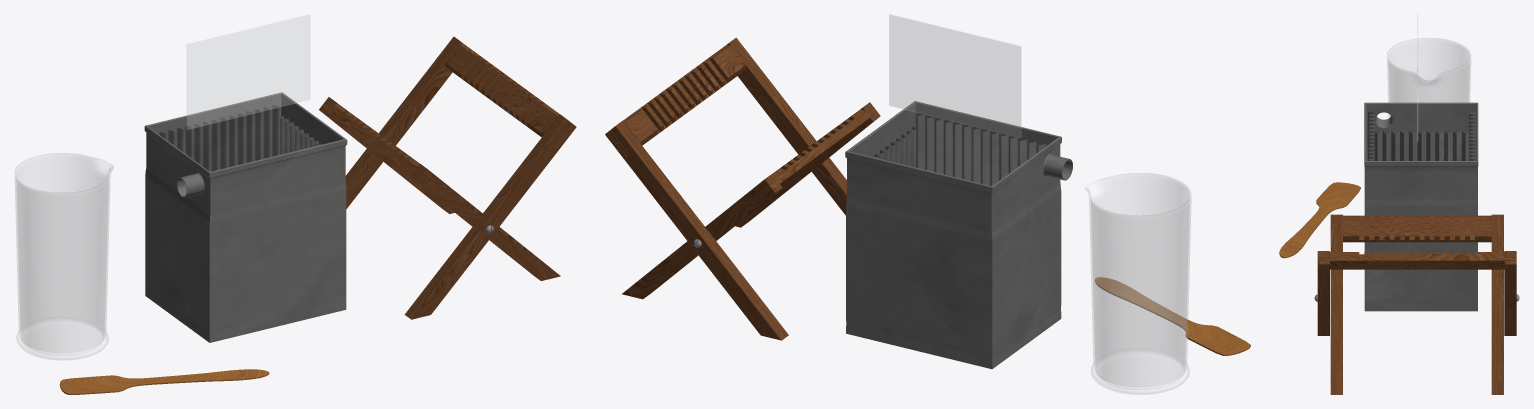
Rendered from AAH_step02_opt.glb.
The picture shows the model from 3 angles, left to right: view 1: azimuth 30°, elevation 25°; view 2: azimuth 150°, elevation 25°; view 3: azimuth 270°, elevation 25°; orthographic projection. The views are drawn at different scales.
Visible parts, largest first — view 1: developmenttank_uv.001, graduatedCylinder_uv.001, dryingrack_uv.001, glassplate.007, woodenSpoon_uv.001; view 2: developmenttank_uv.001, graduatedCylinder_uv.001, dryingrack_uv.001, glassplate.007, woodenSpoon_uv.001; view 3: developmenttank_uv.001, dryingrack_uv.001, graduatedCylinder_uv.001, woodenSpoon_uv.001.
Boxes of the visible parts, x1,y1,x2,y2 form: developmenttank_uv.001: (144, 92, 347, 342); graduatedCylinder_uv.001: (15, 153, 113, 360); dryingrack_uv.001: (319, 36, 576, 319); glassplate.007: (187, 14, 309, 129); woodenSpoon_uv.001: (59, 369, 269, 394); developmenttank_uv.001: (845, 101, 1072, 369); graduatedCylinder_uv.001: (1085, 173, 1191, 394); dryingrack_uv.001: (605, 37, 880, 340); glassplate.007: (889, 14, 1021, 137); woodenSpoon_uv.001: (1095, 277, 1250, 355); developmenttank_uv.001: (1364, 102, 1478, 311); dryingrack_uv.001: (1314, 214, 1519, 394); graduatedCylinder_uv.001: (1387, 38, 1470, 117); woodenSpoon_uv.001: (1279, 182, 1360, 258).
Bounding box in the file's own units: 31.51 × 16.53 × 14.88.
Materials: 7 (5 with a texture image).
